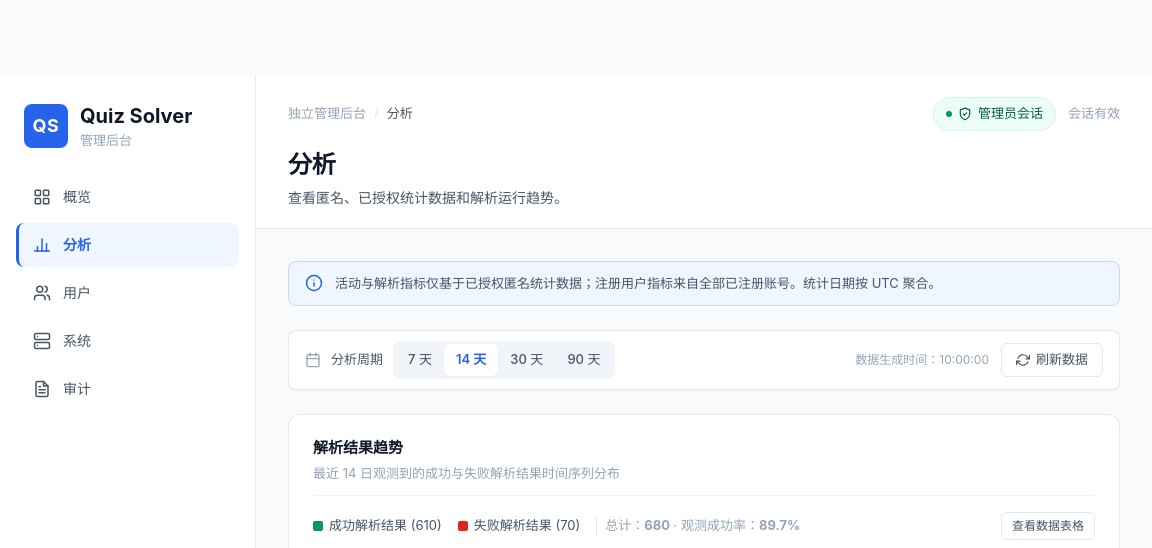
Admin Console UI & Analytics UI Tests › Phase 11C2-R1 Regression & Repair Tests › C2-R1-WINDOW-01: new period never renders old-period response (shows loading during switch)
(page scrolled)
Expected: the text "最近 14 日观测到的成功与失败解析结果时间序列分布" is shown, [313,464,620,480]
# User clicks 90 days button
Click the button "90 天": (584, 360) [555,344,612,376]
(page scrolled)
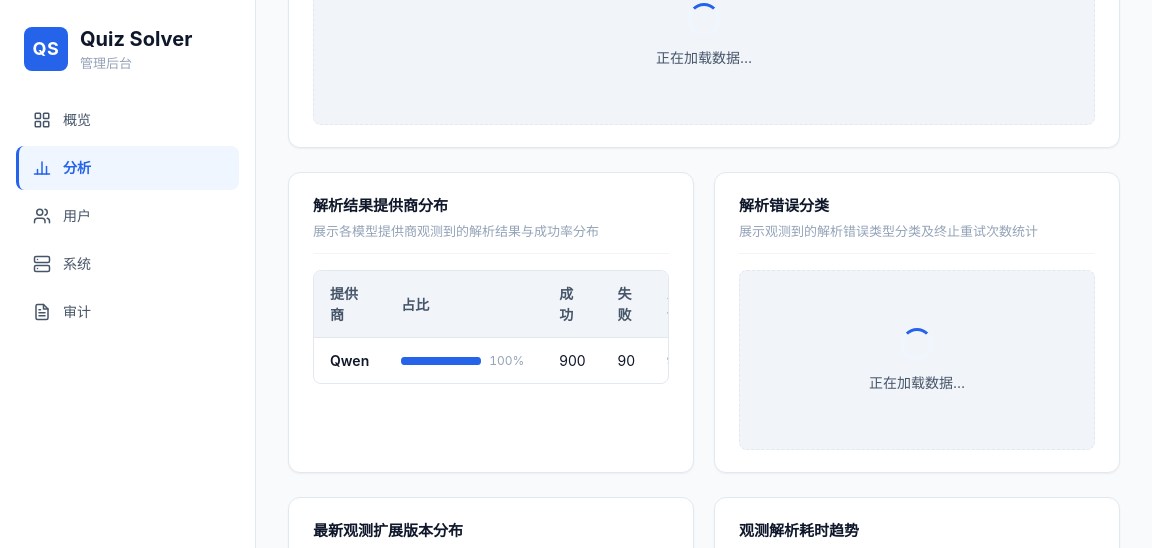
Now the text "Qwen" is shown, box [330,352,369,369]
